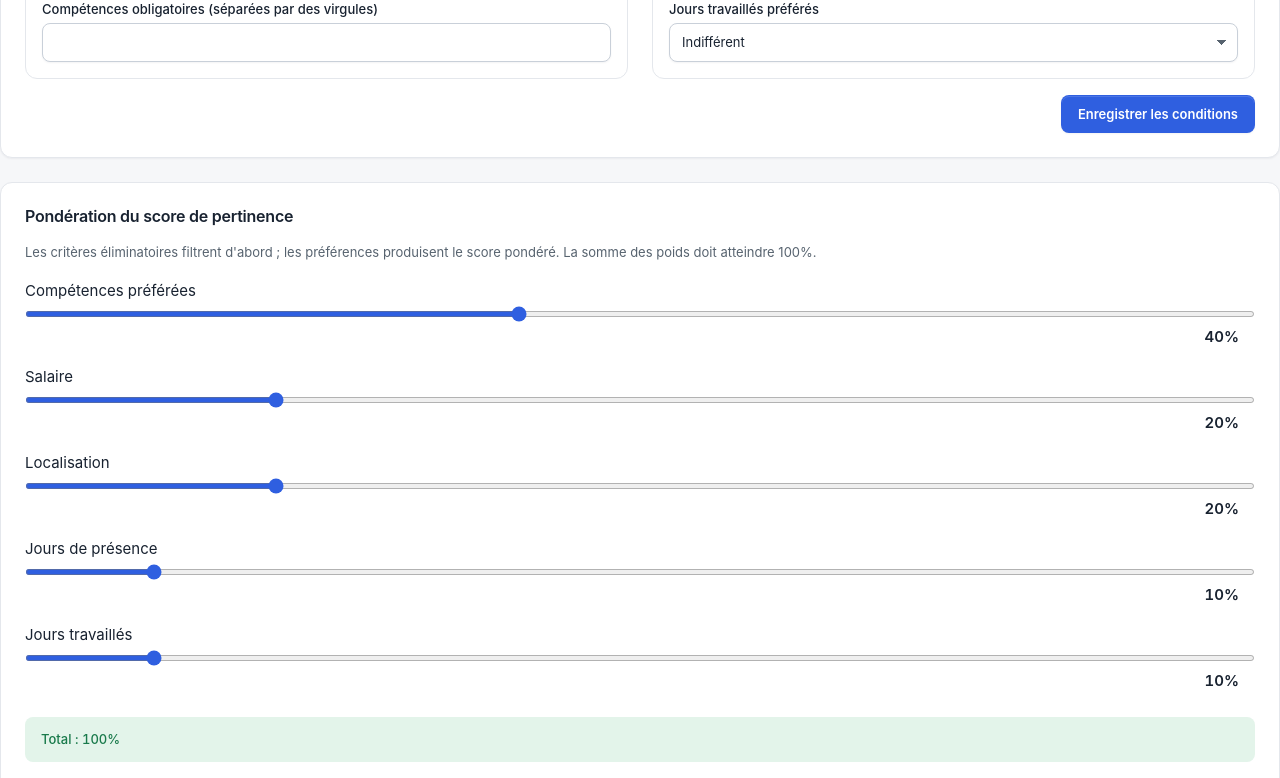
ProfilesPage › warns when the fit-score weights do not sum to 100
(page scrolled)
Set the slider labelled "Salaire" to "50": {"x": 640, "y": 400} [25,397,1255,403]
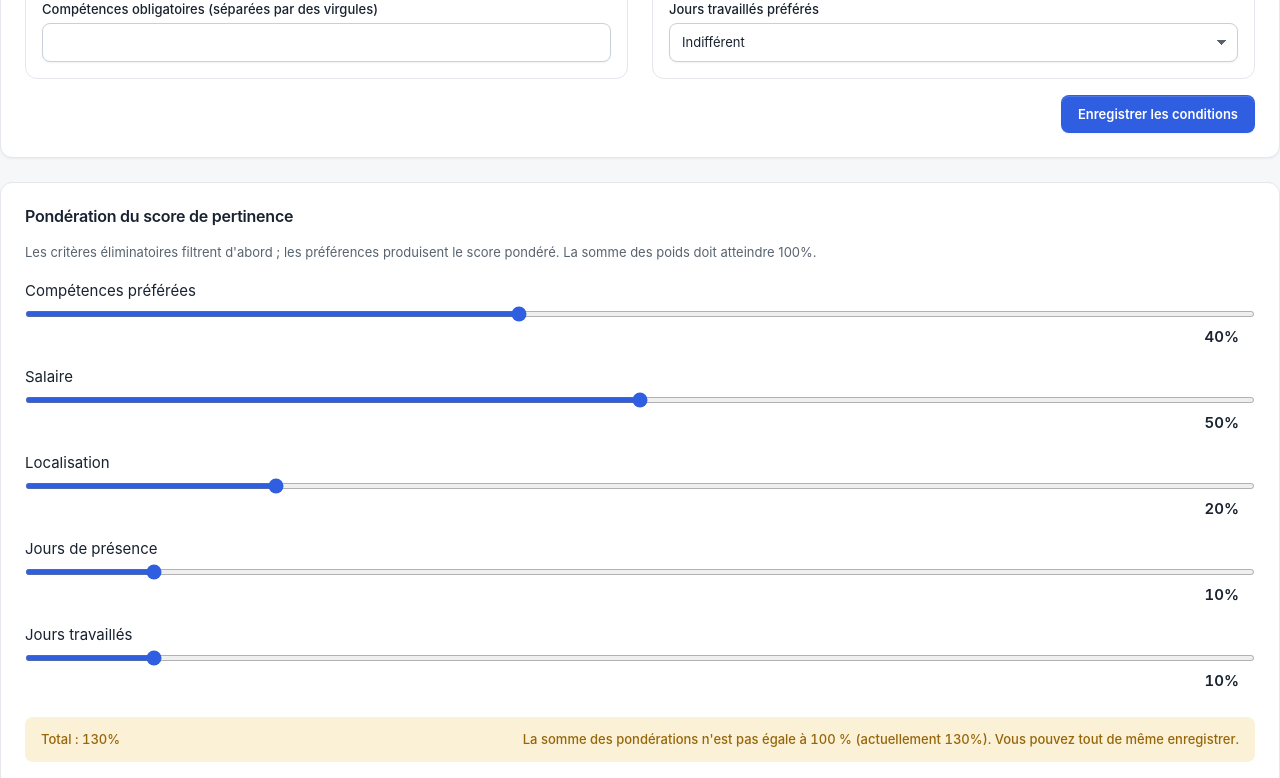
expect the message shows "n'est pas égale à 100": met, box [523,731,941,747]
